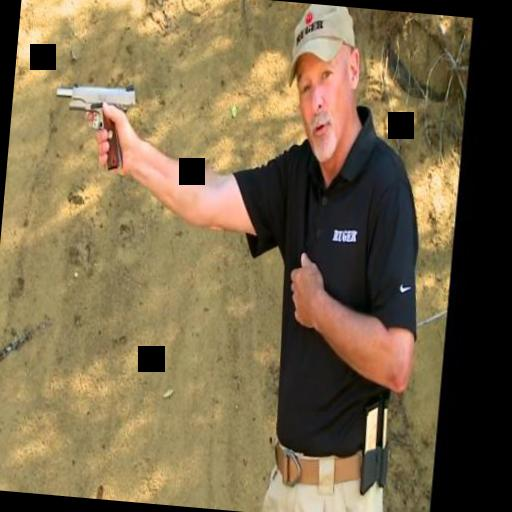Handgun: (49, 76, 138, 176)
